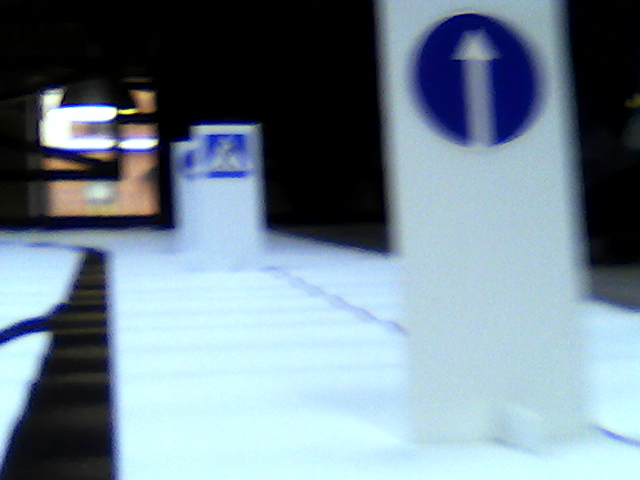forw: (417, 12, 547, 143)
pesh: (209, 134, 248, 176)
